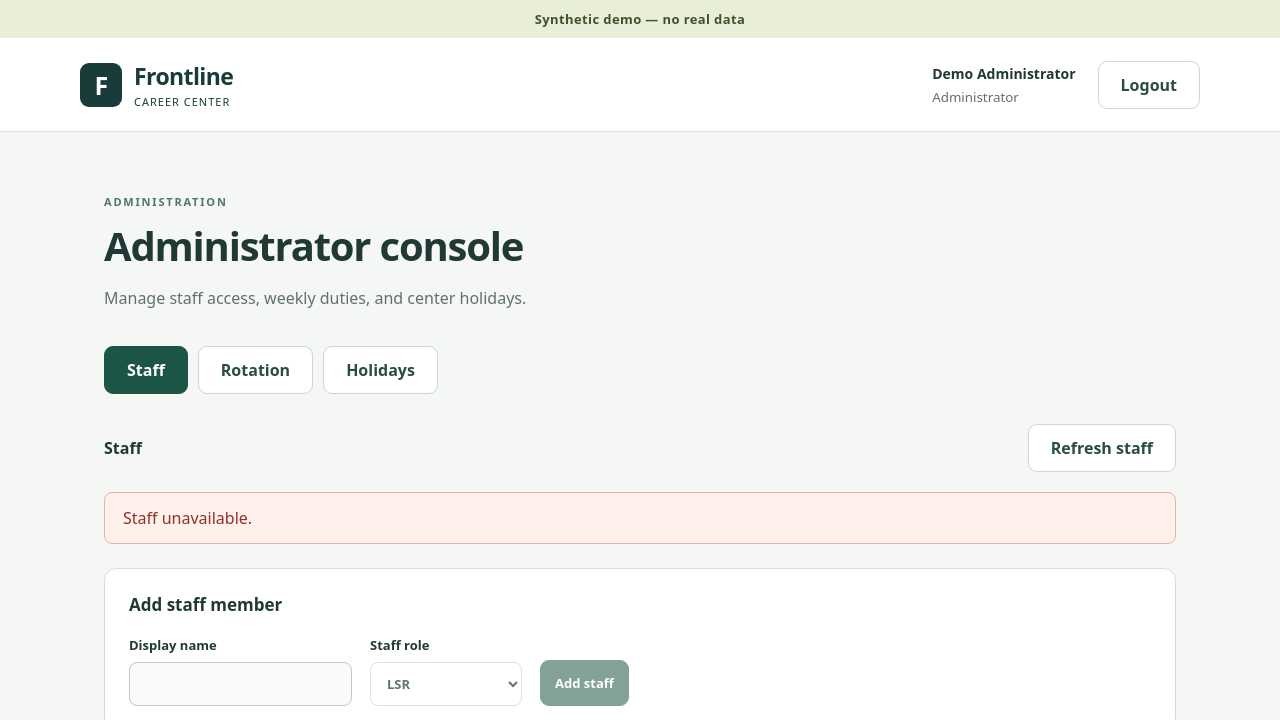
Test case: failed loads can be retried and rejected writes retain the form input
Expected: the message reads "Staff unavailable.", [123, 507, 252, 529]
Step 1. Click the button "Refresh staff" → (1102, 448), box [1028, 424, 1176, 472]
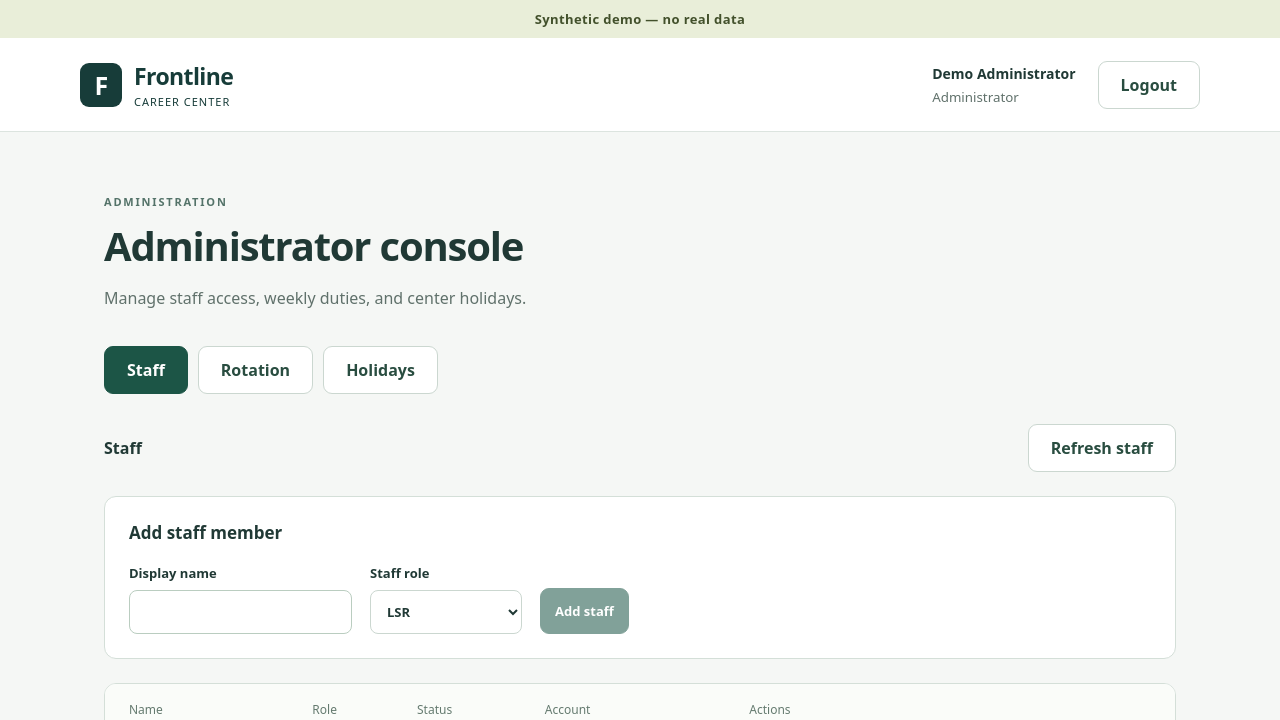
Step 2. Type "Keep this input" into the field labelled "Display name" → (240, 612), box [129, 590, 352, 634]
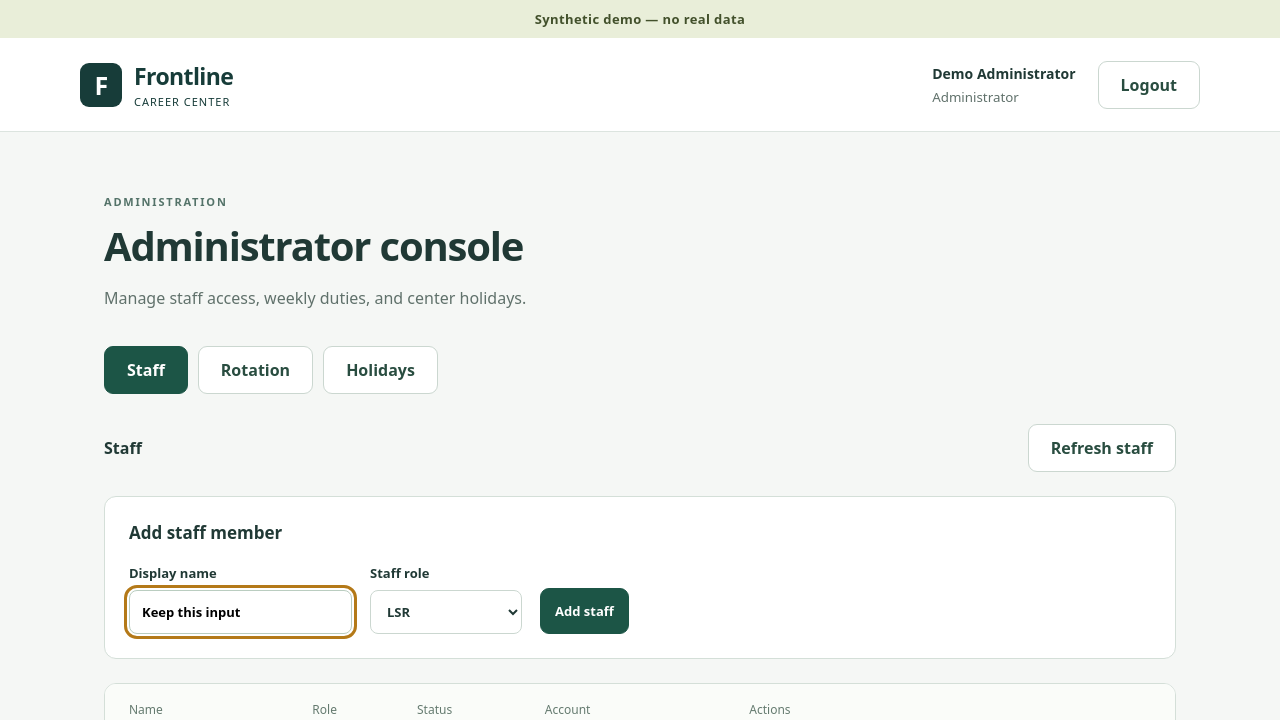
Step 3. Click the button "Add staff" → (584, 611), box [540, 588, 629, 634]
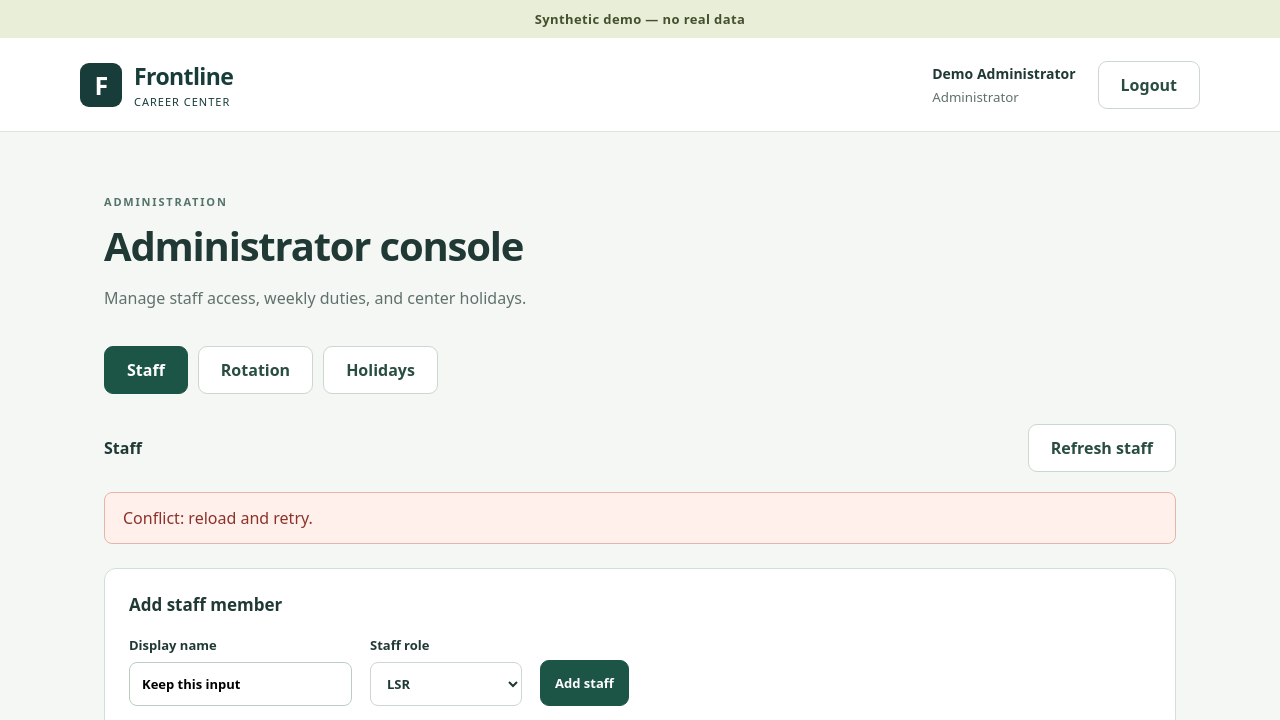
Expected: the message shows "Conflict", [123, 507, 313, 529]
